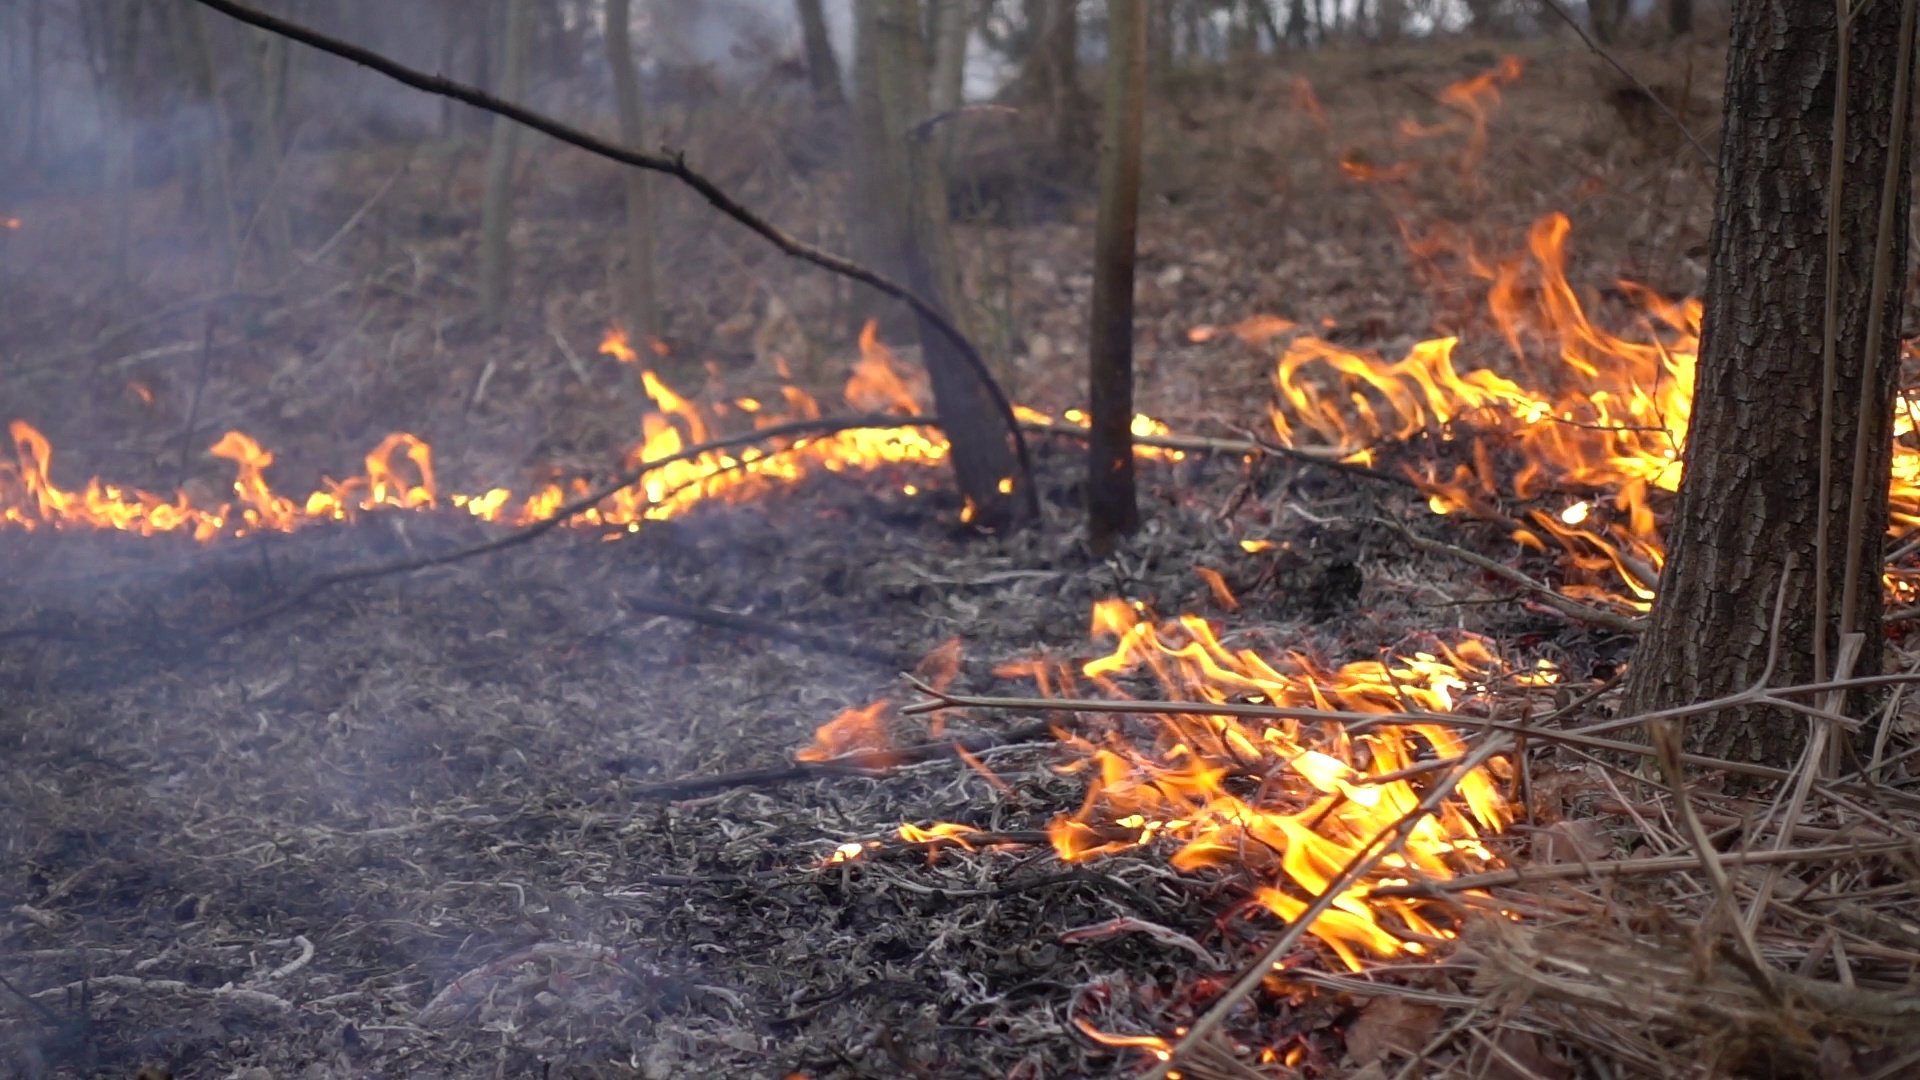fire: (1058, 592, 1507, 957), (1273, 261, 1704, 527), (628, 363, 938, 510), (3, 425, 289, 531), (320, 431, 435, 518), (1896, 396, 1920, 521)
